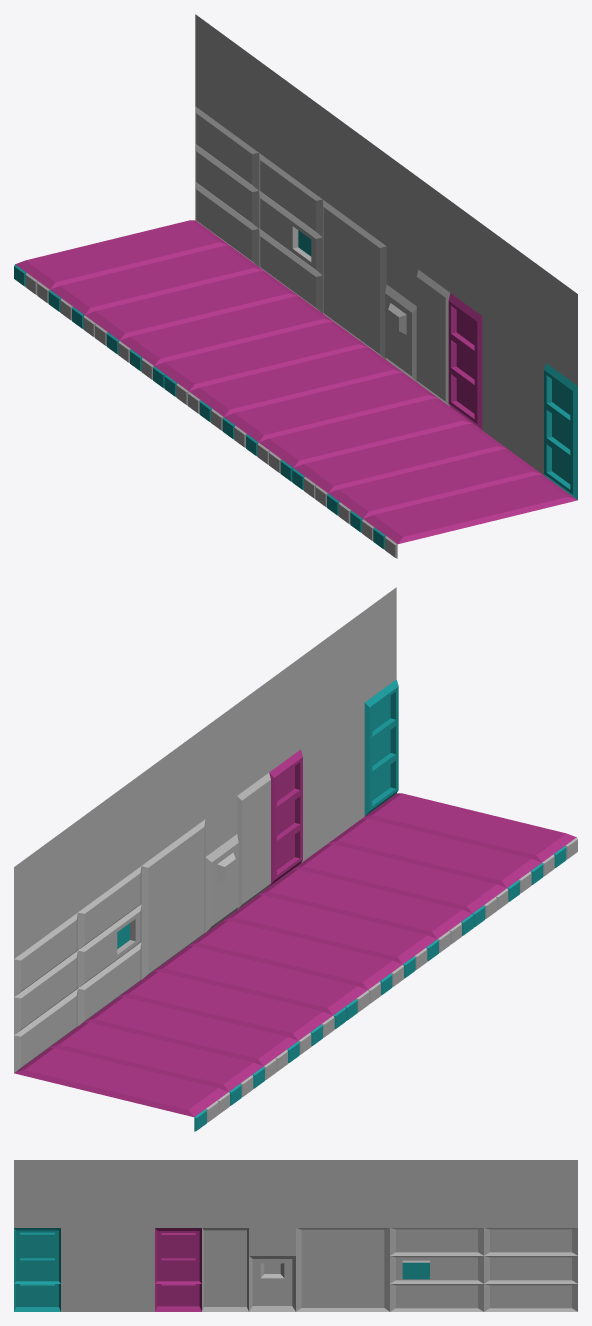
Rendered from road.fbx.
The picture shows the model from 3 angles, top to bottom: view 1: azimuth 30°, elevation 25°; view 2: azimuth 150°, elevation 25°; view 3: azimuth 270°, elevation 25°; orthographic projection. The views are drawn at different scales.
Parts seen in each view (by area): view 1: road; view 2: road; view 3: road.
Boxes of the visible parts, box(x1,y1,x2,y2) form: road: box(14, 14, 577, 558); road: box(14, 587, 577, 1131); road: box(14, 1160, 577, 1311).
Size of the model in its own units: 677 by 773 by 2429.
